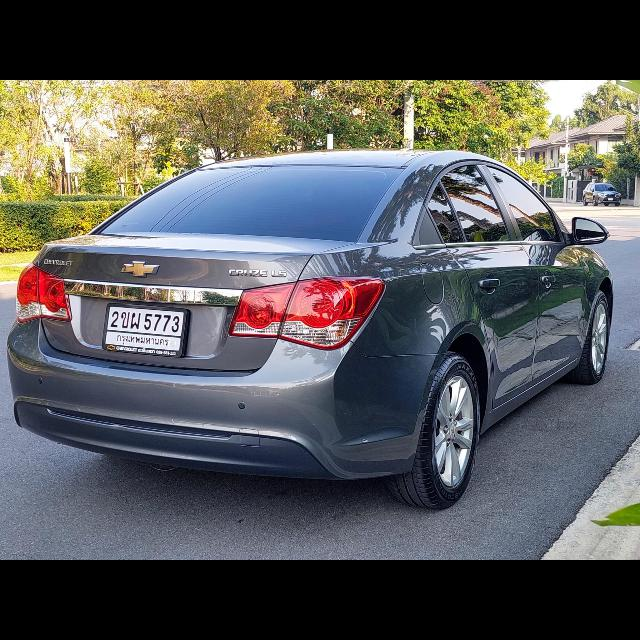cars: (4, 147, 630, 516)
